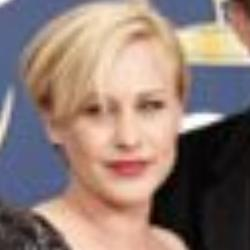face: (16, 1, 198, 207)
